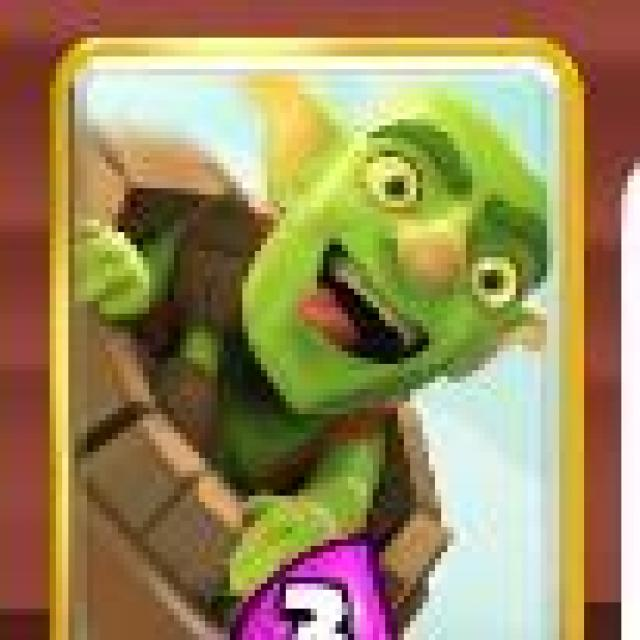Goblin_Barrel: (49, 39, 582, 640)
